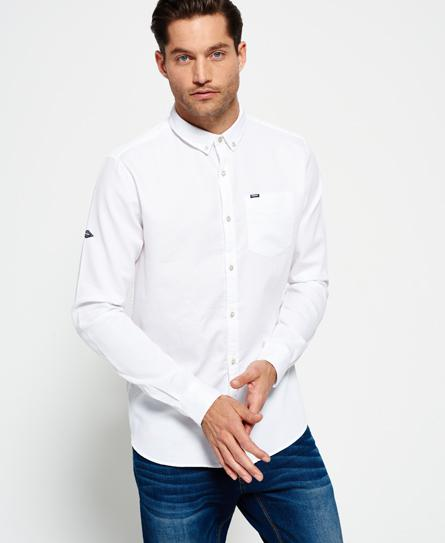teeshirt: (76, 102, 336, 476)
